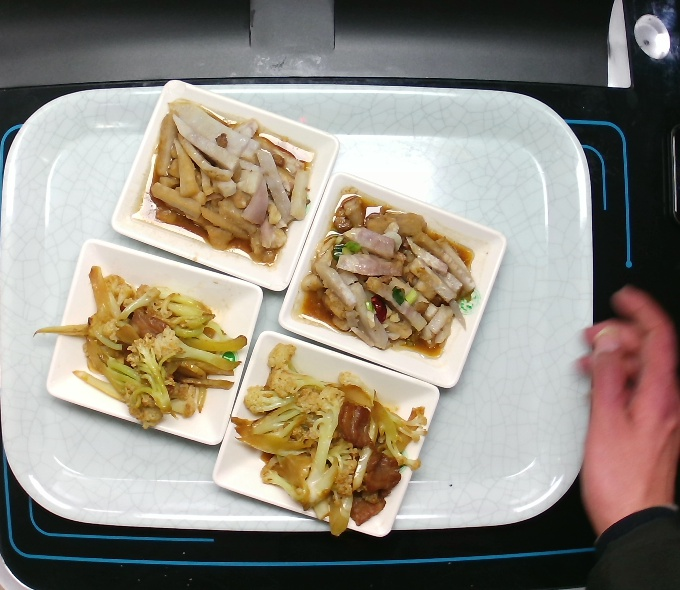wcq-QiuCaiChaoRou: (228, 340, 427, 538), (25, 260, 253, 431)
wcq-YuTou: (298, 189, 480, 361), (135, 99, 319, 269)
